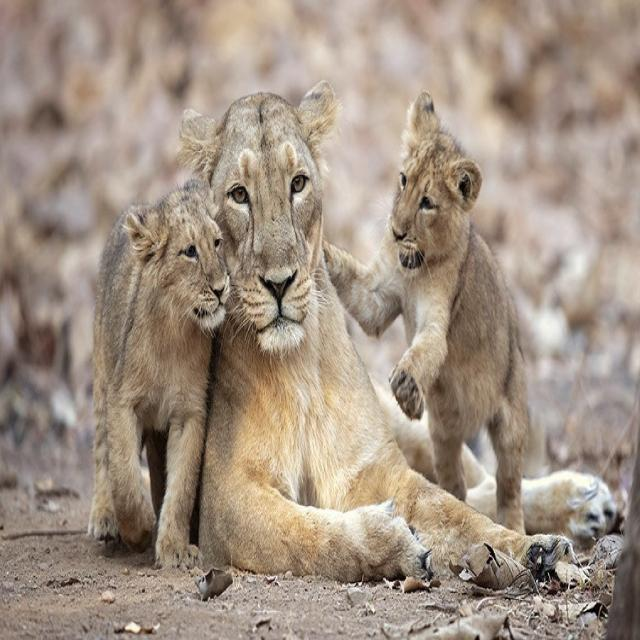lion: (180, 81, 575, 588), (324, 92, 529, 531), (89, 179, 230, 566)
